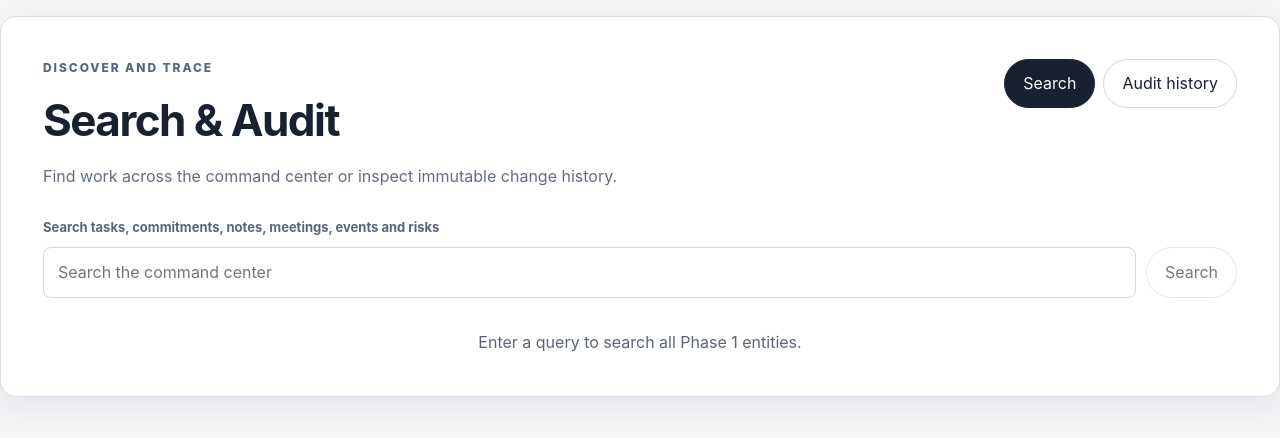
Test: SearchAuditPanel › surfaces the backend error envelope message on a non-2xx response, same as before
Click the tab "Audit history" at [1170, 83], box [1103,59,1237,108]
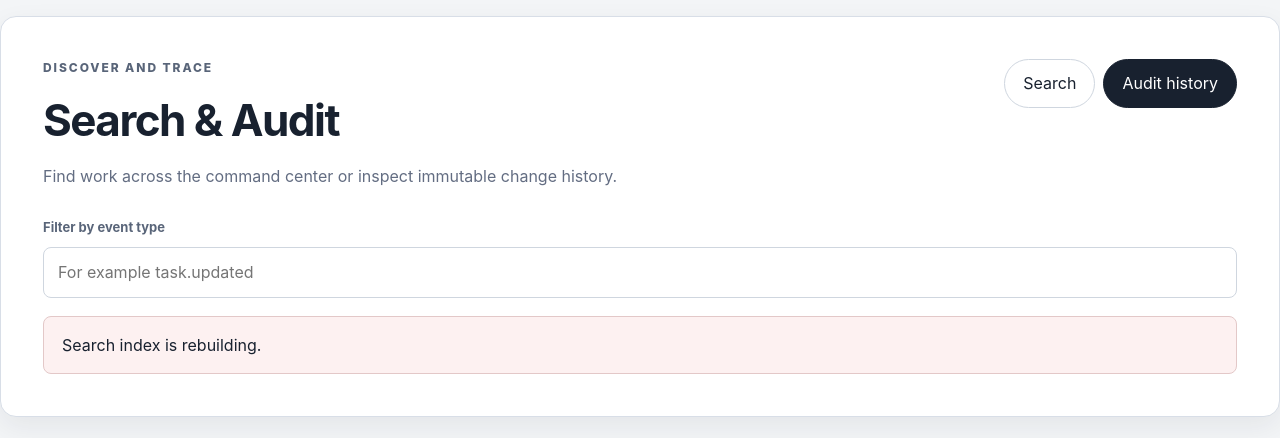
expect the message reads "Search index is rebuilding.": met, box [62,334,261,354]
